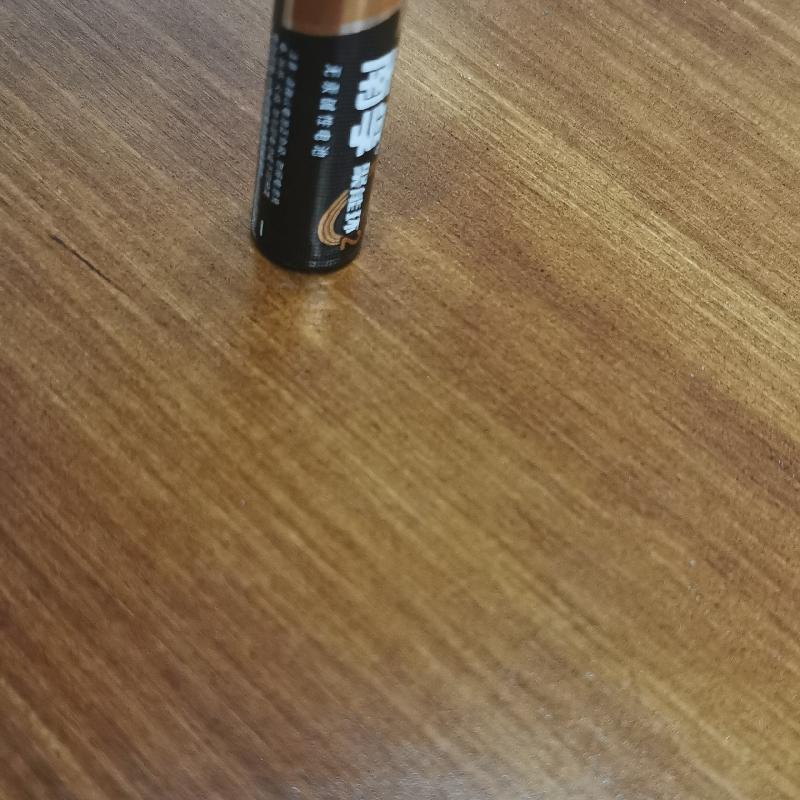battery: (250, 0, 409, 277)
